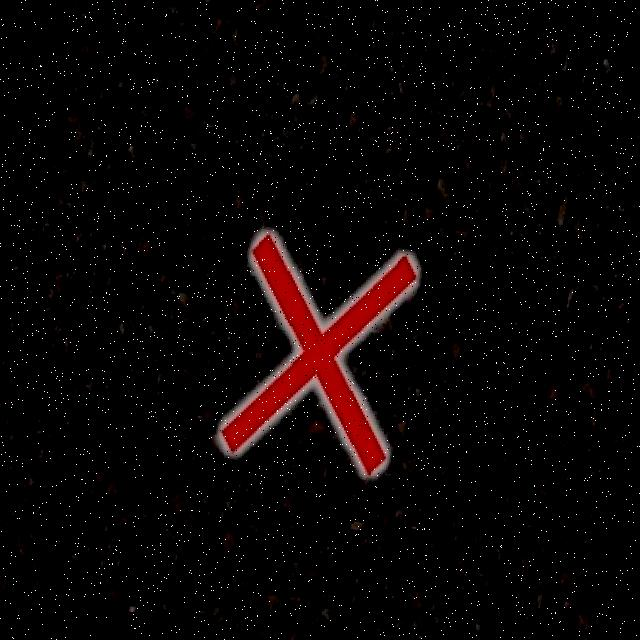x_marker: (218, 228, 420, 476)
